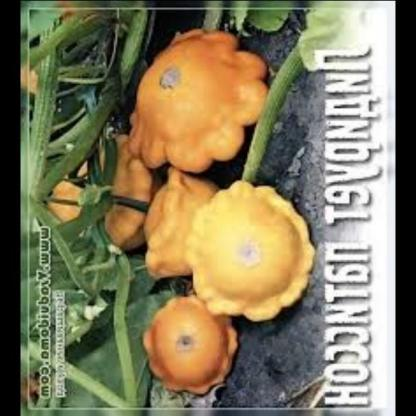squash-patisson: (124, 16, 273, 184), (191, 176, 315, 330), (129, 289, 251, 408), (134, 162, 215, 294), (95, 134, 150, 256)
